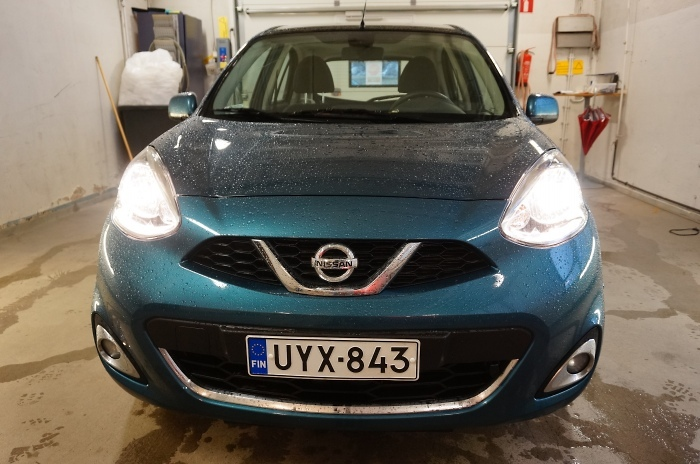license: (245, 336, 418, 382)
